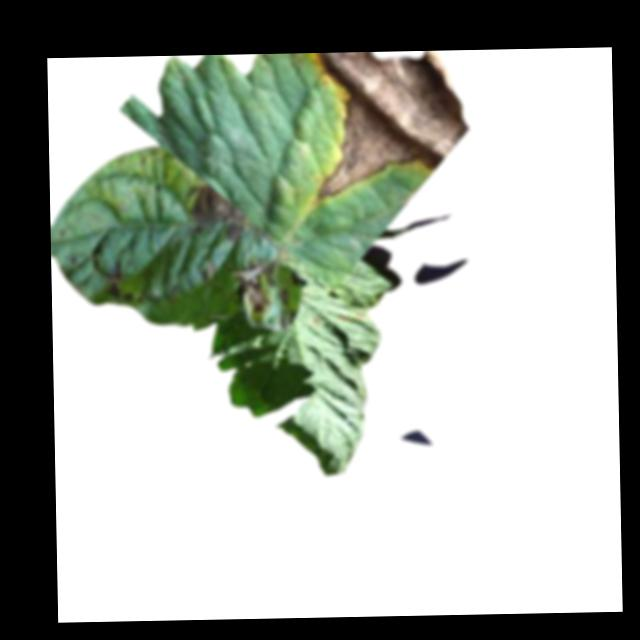Early_blight: (312, 50, 472, 203), (193, 183, 255, 244), (232, 254, 279, 314), (102, 261, 135, 302), (335, 309, 363, 327), (278, 287, 288, 310)
